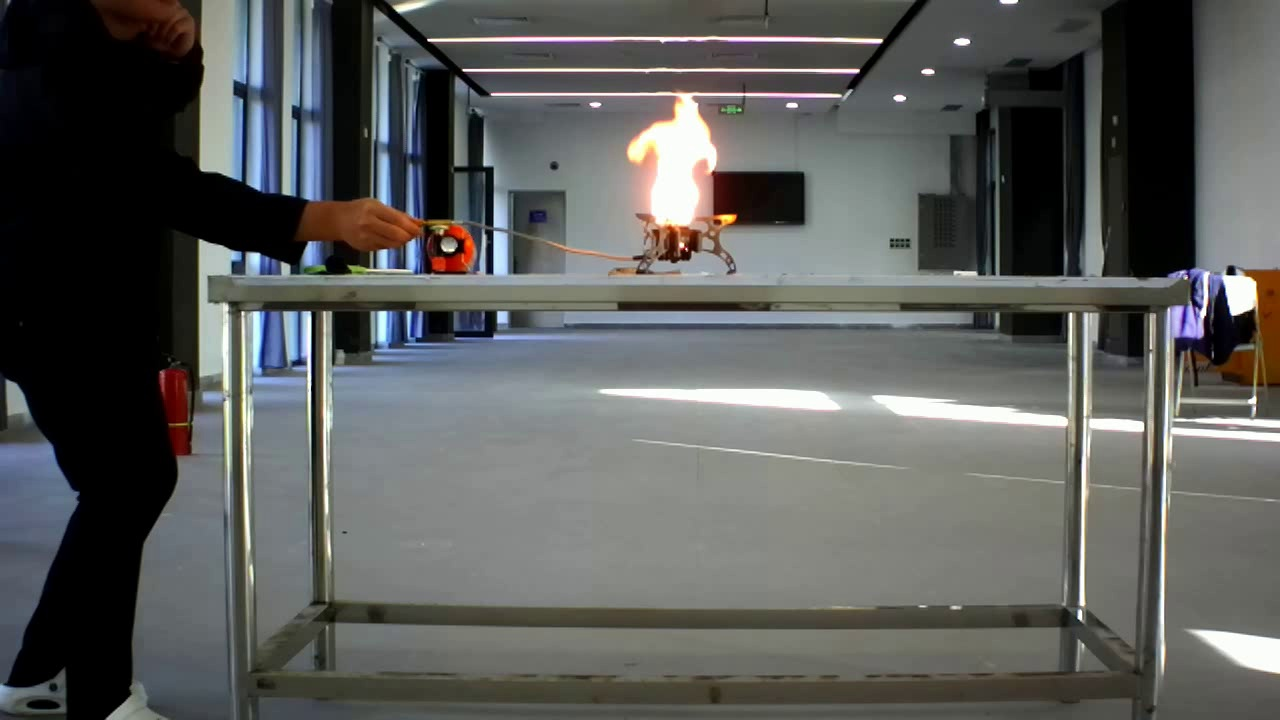Fire: (614, 89, 746, 267)
